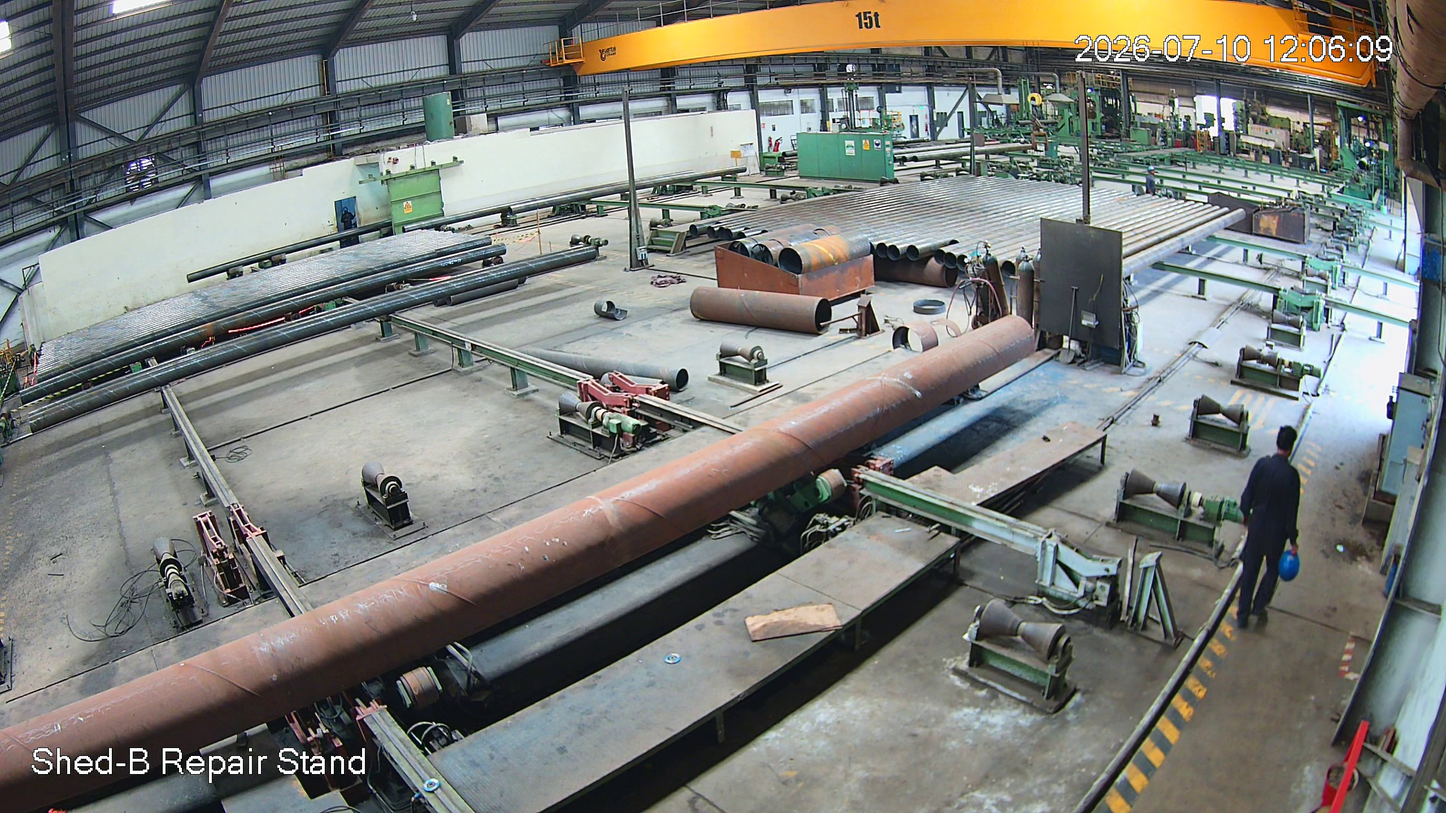Person: (1234, 424, 1319, 636)
